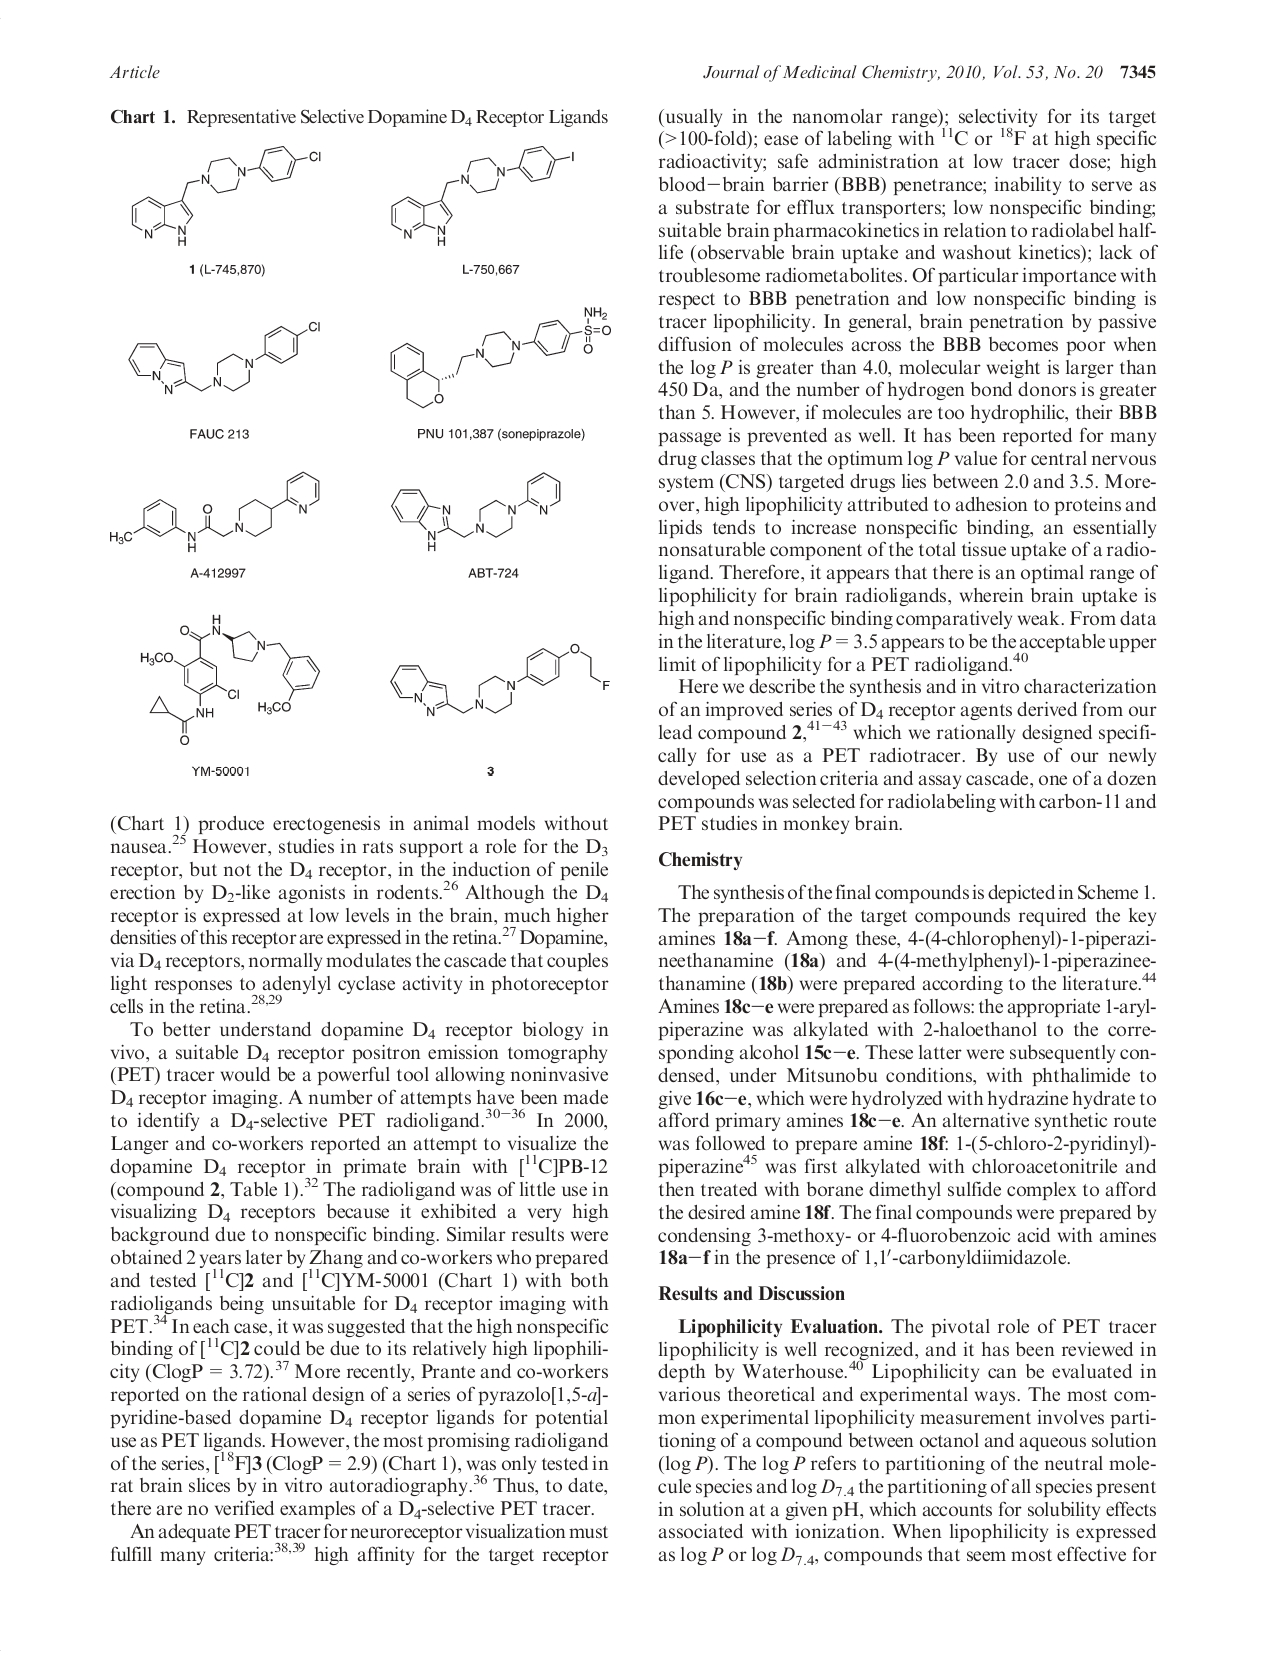exist_molecular: (136, 612, 323, 745), (388, 303, 616, 410), (387, 144, 576, 251), (128, 145, 324, 247), (105, 467, 324, 553), (394, 638, 614, 719), (128, 317, 324, 398), (392, 469, 567, 555)
